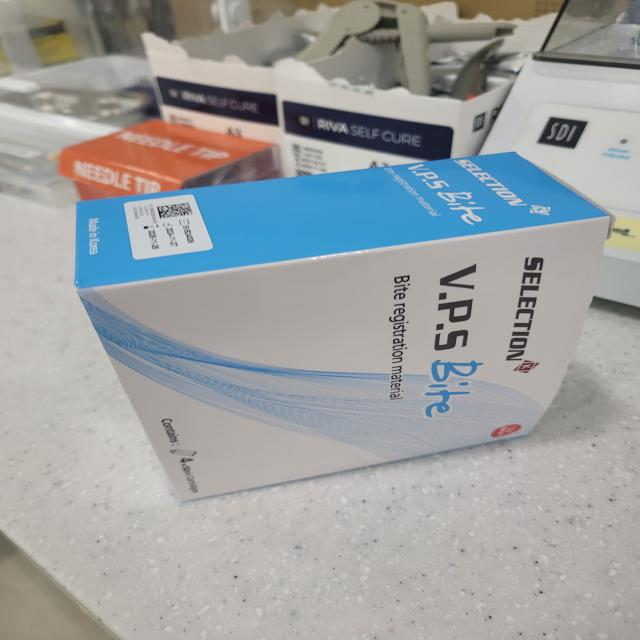impression: (52, 146, 626, 509)
